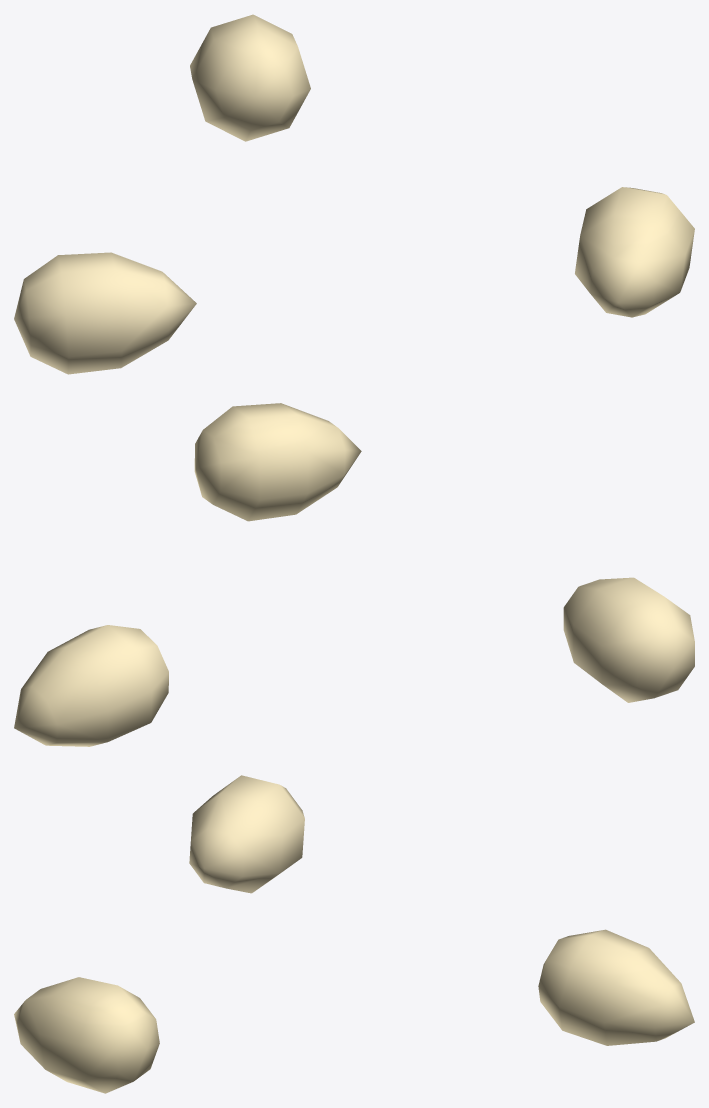
Rendered from sugarcane_seed.glb.
3 views of the same model, one above another, from view 1: azimuth 30°, elevation 25°; view 2: azimuth 150°, elevation 25°; view 3: azimuth 270°, elevation 25° (orthographic). The views are drawn at different scales.
Parts seen in each view (by area): view 1: SM_SugarCane_Seed2; view 2: SM_SugarCane_Seed2; view 3: SM_SugarCane_Seed2.
Part boxes in pixels (<box>): SM_SugarCane_Seed2: <box>14,14,694,374</box>; SM_SugarCane_Seed2: <box>14,403,694,746</box>; SM_SugarCane_Seed2: <box>14,775,694,1093</box>.
Size of the model in its own units: 0.2148 by 0.0411 by 0.2347.
Materials: 1 (1 with a texture image).
